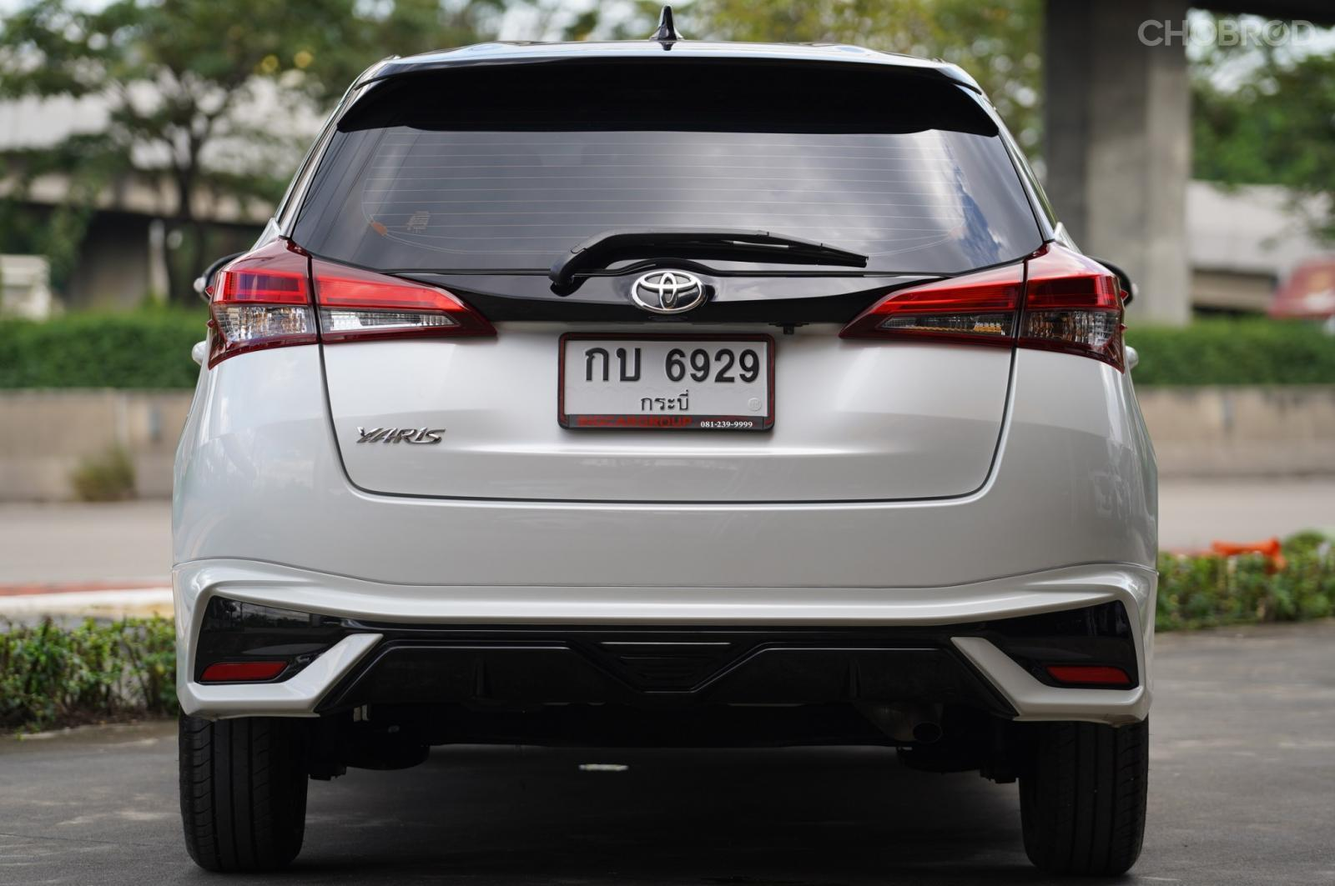license-plate: (549, 324, 783, 444)
